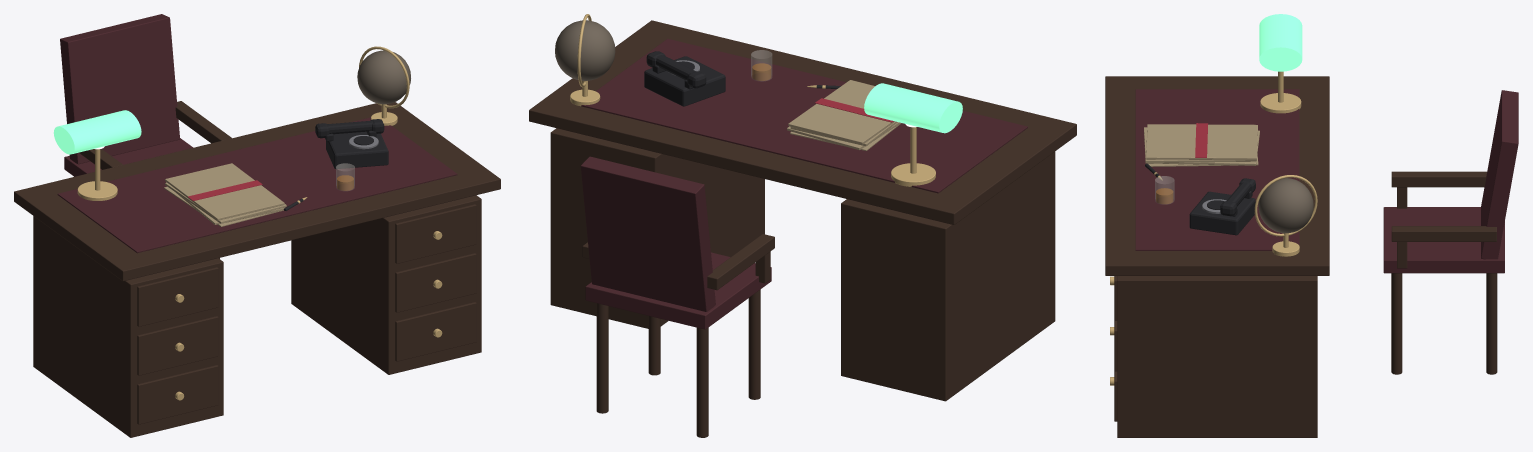
File: anu-desk.glb
The picture shows the model from 3 angles, left to right: view 1: azimuth 30°, elevation 25°; view 2: azimuth 150°, elevation 25°; view 3: azimuth 270°, elevation 25°; orthographic projection. The views are drawn at different scales.
Parts seen in each view (by area): view 1: Pedestal_L, Desk_Top, Desk_Leather, Pedestal_R, Chair_Back, Dossier_3, Drawer_L_1, Drawer_R_0, Drawer_R_1, Drawer_L_2, Drawer_L_0, Drawer_R_2 (+8 smaller); view 2: Pedestal_L, Desk_Top, Desk_Leather, Chair_Back, Pedestal_R, Chair_Seat, Lamp_Shade, Dossier_3, Globe_Sphere, Phone_Body, Chair_Arm_L, Chair_Leg_2 (+5 smaller); view 3: Pedestal_R, Desk_Top, Desk_Leather, Chair_Seat, Chair_Back, Dossier_3, Globe_Sphere, Lamp_Shade, Chair_Arm_R, Phone_Body, Chair_Arm_L, Chair_Leg_1 (+6 smaller).
Part boxes in pixels (box(x1,y1,x2,y2)): Pedestal_L: box(33, 216, 223, 437); Desk_Top: box(14, 102, 500, 281); Desk_Leather: box(57, 117, 457, 253); Pedestal_R: box(291, 195, 481, 374); Chair_Back: box(60, 14, 179, 164); Dossier_3: box(165, 163, 284, 220); Drawer_L_1: box(137, 316, 218, 375); Drawer_R_0: box(395, 302, 476, 361); Drawer_R_1: box(395, 253, 476, 312); Drawer_L_2: box(137, 267, 218, 326); Drawer_L_0: box(137, 365, 218, 424); Drawer_R_2: box(395, 204, 476, 263); Pedestal_L: box(841, 151, 1055, 401); Desk_Top: box(529, 20, 1076, 224); Desk_Leather: box(581, 38, 1027, 193); Chair_Back: box(580, 156, 715, 311); Pedestal_R: box(550, 128, 764, 328); Chair_Seat: box(585, 252, 771, 329); Lamp_Shade: box(864, 83, 962, 133); Dossier_3: box(788, 80, 894, 144); Globe_Sphere: box(555, 20, 615, 80); Phone_Body: box(644, 56, 725, 106); Chair_Arm_L: box(707, 234, 774, 290); Chair_Leg_2: box(696, 327, 708, 437); Pedestal_R: box(1117, 276, 1317, 437); Desk_Top: box(1105, 76, 1329, 275); Desk_Leather: box(1135, 89, 1299, 250); Chair_Seat: box(1383, 207, 1504, 273); Chair_Back: box(1481, 90, 1518, 259); Dossier_3: box(1146, 124, 1257, 160); Globe_Sphere: box(1258, 178, 1313, 233); Lamp_Shade: box(1259, 14, 1302, 71); Chair_Arm_R: box(1391, 226, 1496, 241); Phone_Body: box(1189, 191, 1255, 235); Chair_Arm_L: box(1391, 171, 1486, 187); Chair_Leg_1: box(1391, 273, 1402, 374).
Size of what is drawn, in the model's own units: 1.7 by 1.07 by 1.57.
